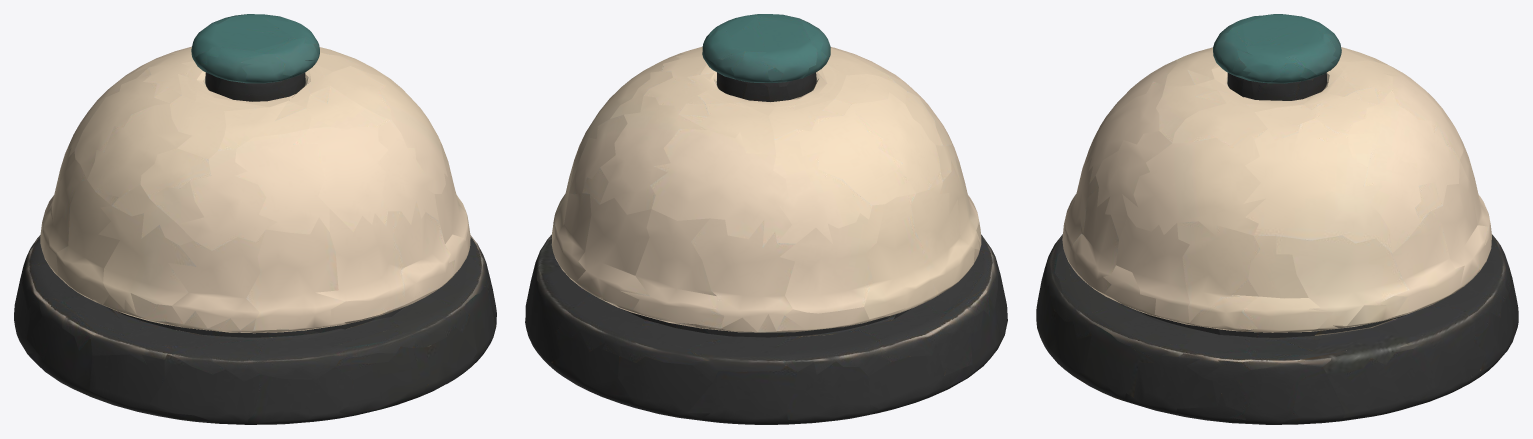
The model's file is rounded-restaurant-service-bell-button-pressed.glb.
3 views of the same model, side by side, from view 1: azimuth 30°, elevation 25°; view 2: azimuth 150°, elevation 25°; view 3: azimuth 270°, elevation 25° (orthographic).
Visible parts, largest first — view 1: Mesh_0; view 2: Mesh_0; view 3: Mesh_0.
Boxes of the visible parts, x1,y1,x2,y2 form: Mesh_0: [14, 14, 496, 424]; Mesh_0: [525, 14, 1007, 424]; Mesh_0: [1036, 14, 1518, 424].
Bounding box in the file's own units: 0.1 × 0.0668 × 0.1.
Materials: 1 (1 with a texture image).
